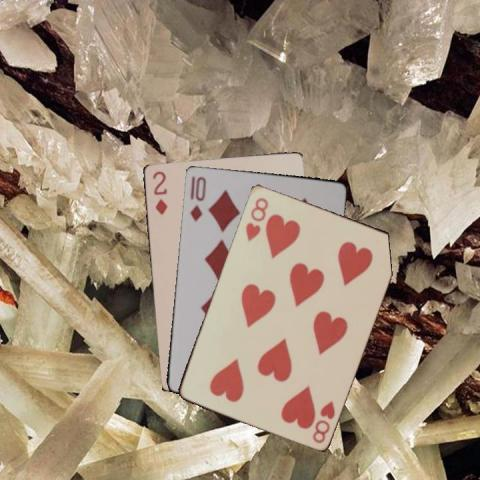10d: (187, 173, 207, 223)
2d: (149, 168, 169, 216)
8h: (242, 194, 270, 242), (309, 397, 337, 445)
